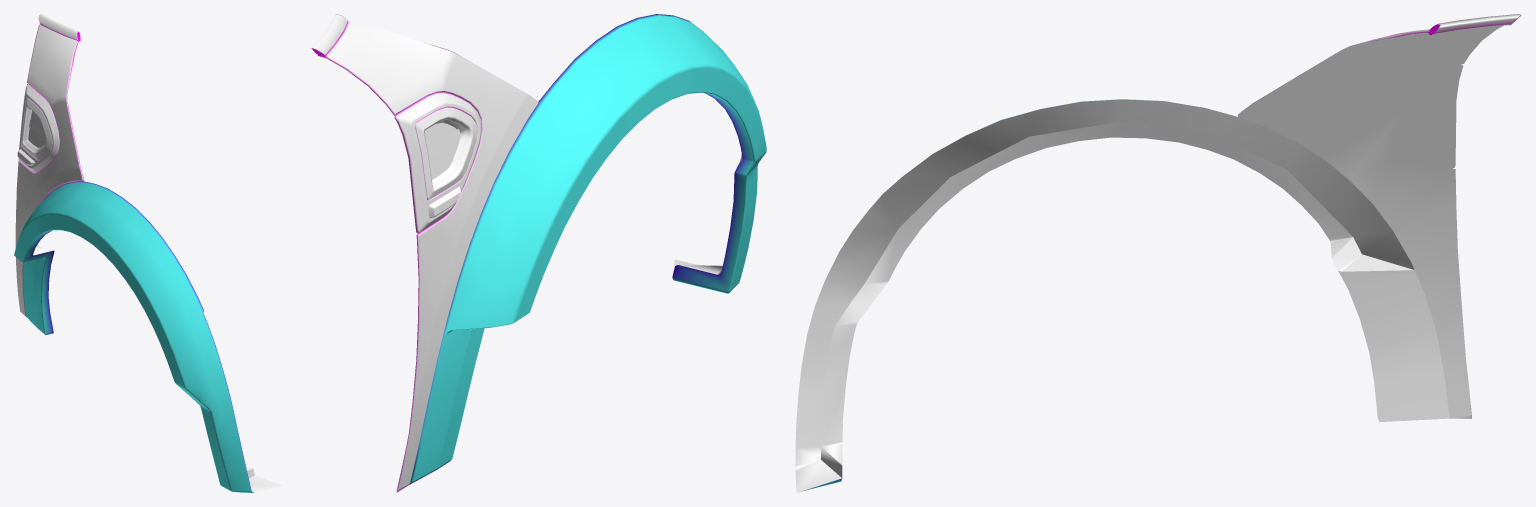
The model's file is Car_Mini_CountrymanJCW_2017_FenderFR_SetD.fbx.
3 renders of one model, left to right at view 1: azimuth 30°, elevation 25°; view 2: azimuth 150°, elevation 25°; view 3: azimuth 270°, elevation 25°, orthographic. The views are drawn at different scales.
Visible parts, largest first — view 1: FenderFR 6; view 2: FenderFR 6; view 3: FenderFR 6.
Boxes of the visible parts, box(x1,y1,x2,y2) form: FenderFR 6: box(14, 14, 282, 492); FenderFR 6: box(311, 14, 766, 492); FenderFR 6: box(795, 14, 1521, 492).
Size of the model in its own units: 0.2646 by 0.8186 by 1.14.
